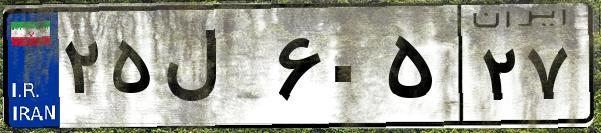0: (330, 28, 385, 110)
2: (57, 26, 110, 100), (475, 38, 525, 113)
5: (385, 28, 445, 110), (110, 28, 158, 98)
6: (270, 28, 330, 110)
7: (525, 38, 570, 115)
ل: (158, 20, 270, 120)
